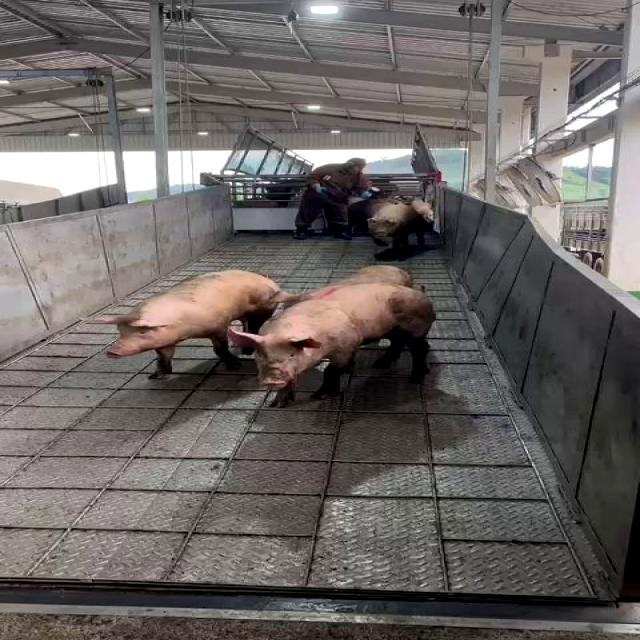pig: (229, 284, 435, 407), (108, 270, 289, 378), (369, 200, 435, 258), (332, 265, 412, 287)
